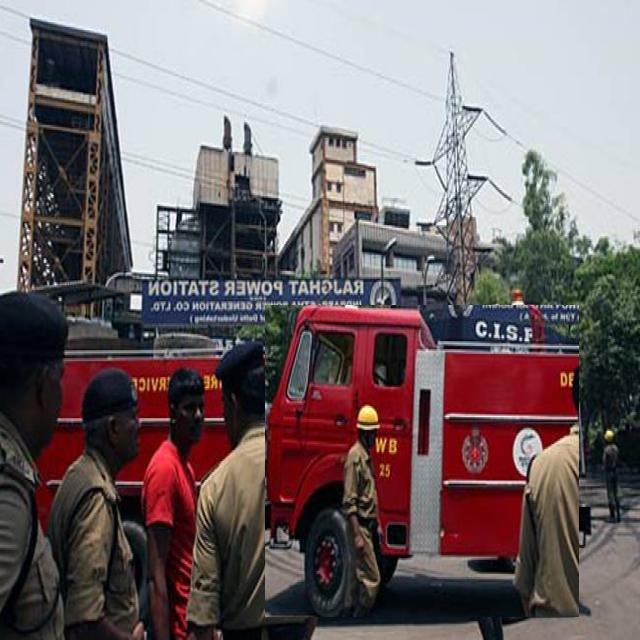emergency: (265, 306, 579, 617), (40, 352, 229, 515)
